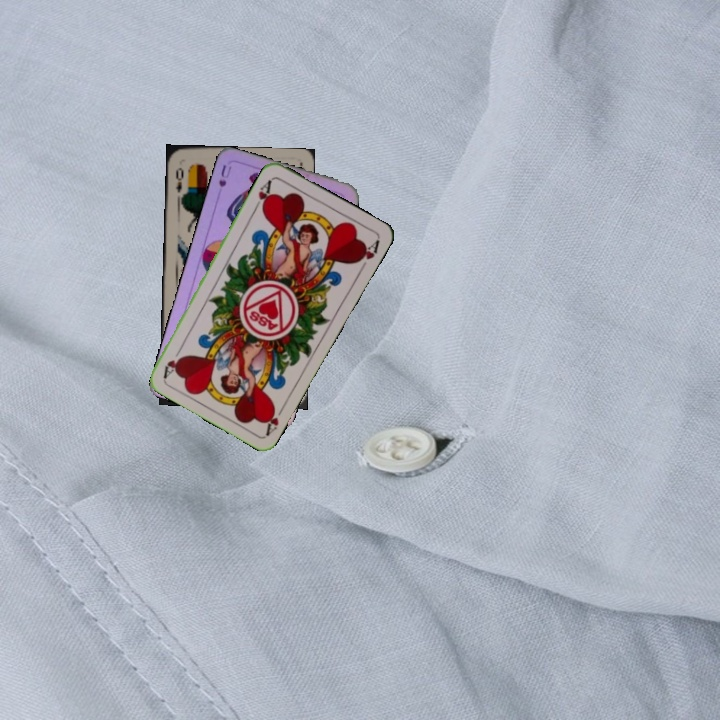EO: (172, 164, 186, 195)
HA: (260, 400, 288, 437), (250, 176, 275, 214)
SU: (215, 160, 234, 190)
